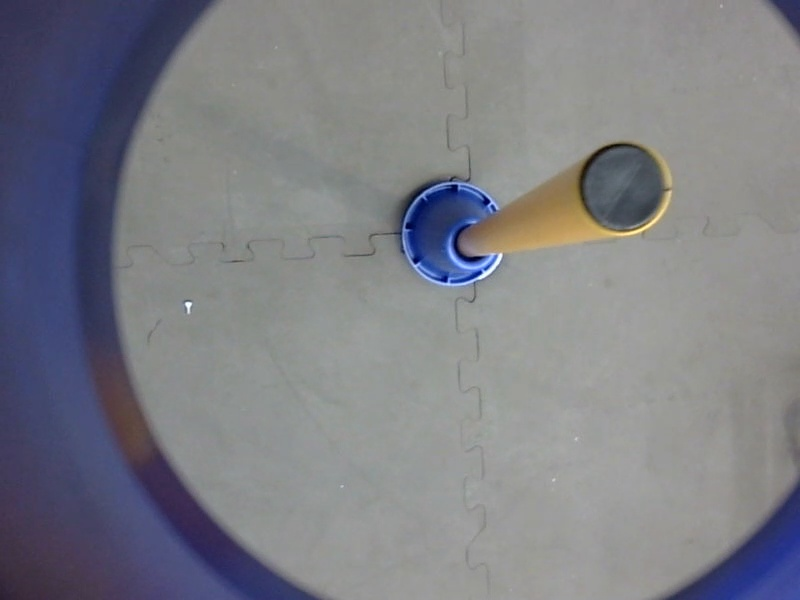tip: (571, 136, 679, 239)
